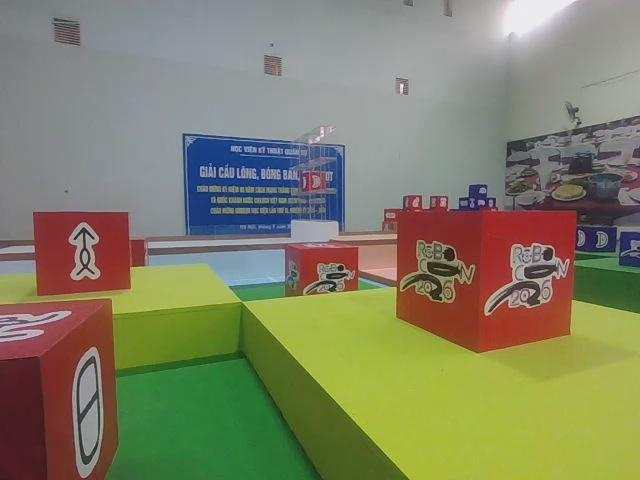R1: (394, 207, 579, 357), (279, 238, 362, 305)
R2 Fake: (0, 295, 122, 480)
R2 Real: (31, 208, 133, 299)
